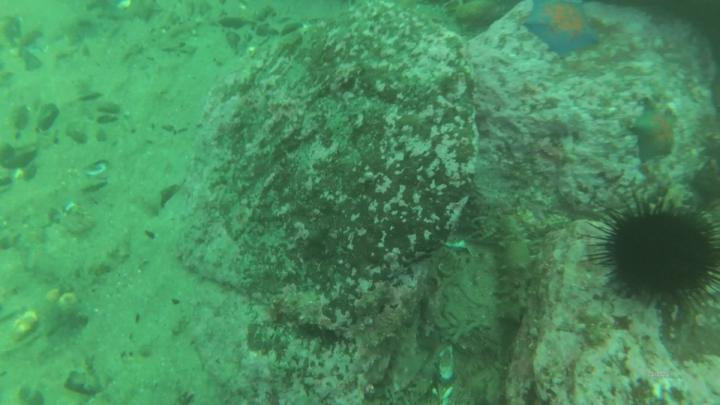echinus: (608, 206, 717, 301)
holothurian: (499, 217, 536, 326)
starfish: (527, 3, 601, 53), (632, 103, 677, 161)
